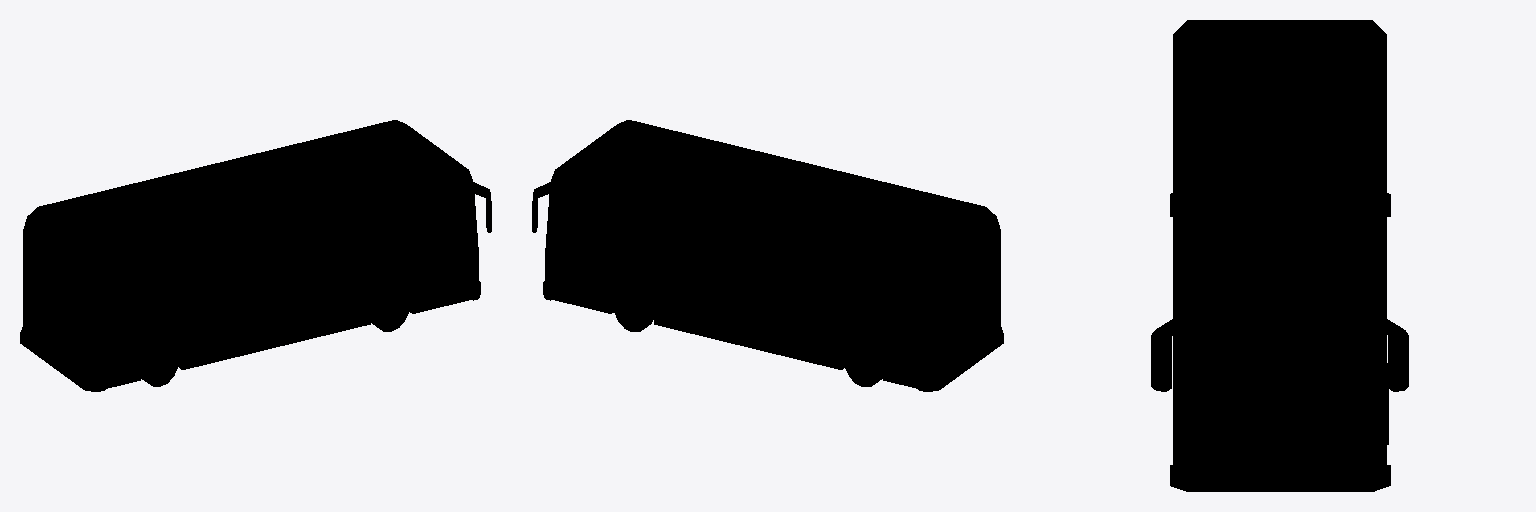
URDF robot description (bus):
<?xml version="1.0" ?>
<robot name="bus">
  <link name="baseLink">
    <contact>
      <lateral_friction value="1.0"/>
      <rolling_friction value="0.0"/>
      <contact_cfm value="0.0"/>
      <contact_erp value="1.0"/>
    </contact>
    <inertial>
      <origin rpy="0 0 0" xyz="-0.0011 0.0 0.0341"/>
       <mass value="0.515"/>
       <inertia ixx="0.00027720" ixy="0.0" ixz="0.00000494" iyy="0.00147559" iyz="0.00000007" izz="0.00146899"/>
    </inertial>
    <visual>
      <origin rpy="0 0 0" xyz="-0.0011 0.0 0.0341"/>
      <geometry>
        <mesh filename="./stl/bus.stl" scale="0.001 0.001 0.001"/>
      </geometry>
       <material name="black">
        <color rgba="0 0 0 1"/>
      </material>
    </visual>
    <collision concave="yes">
      <origin rpy="0 0 0" xyz="-0.0011 0.0 0.0341"/>
      <geometry>
	 	<mesh filename="./stl/bus.stl" scale="0.001 0.001 0.001"/>
      </geometry>
    </collision>
  </link>
</robot>

--- Render facts (derived) ---
3 views of the same robot in one strip: view 1: azimuth 30°, elevation 25°; view 2: azimuth 150°, elevation 25°; view 3: azimuth 270°, elevation 25° (orthographic).
Model bus with 1 links and 0 joints (none), rooted at baseLink, posed all joints at 0.
Visible links, largest first — view 1: baseLink; view 2: baseLink; view 3: baseLink.
Boxes of the visible links, box(x1,y1,x2,y2) form: baseLink: box(20, 120, 491, 391); baseLink: box(532, 120, 1003, 391); baseLink: box(1151, 20, 1408, 491).
Size in the robot's own frame: 0.0906 by 0.0342 by 0.0327 metres.
Meshes: 1 distinct files referenced, 1 mesh visuals loaded (1 binary STL).
